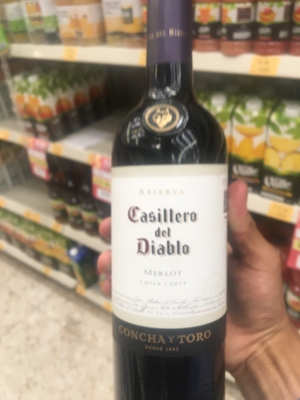casillero del diablo merlot: (106, 19, 235, 400)
